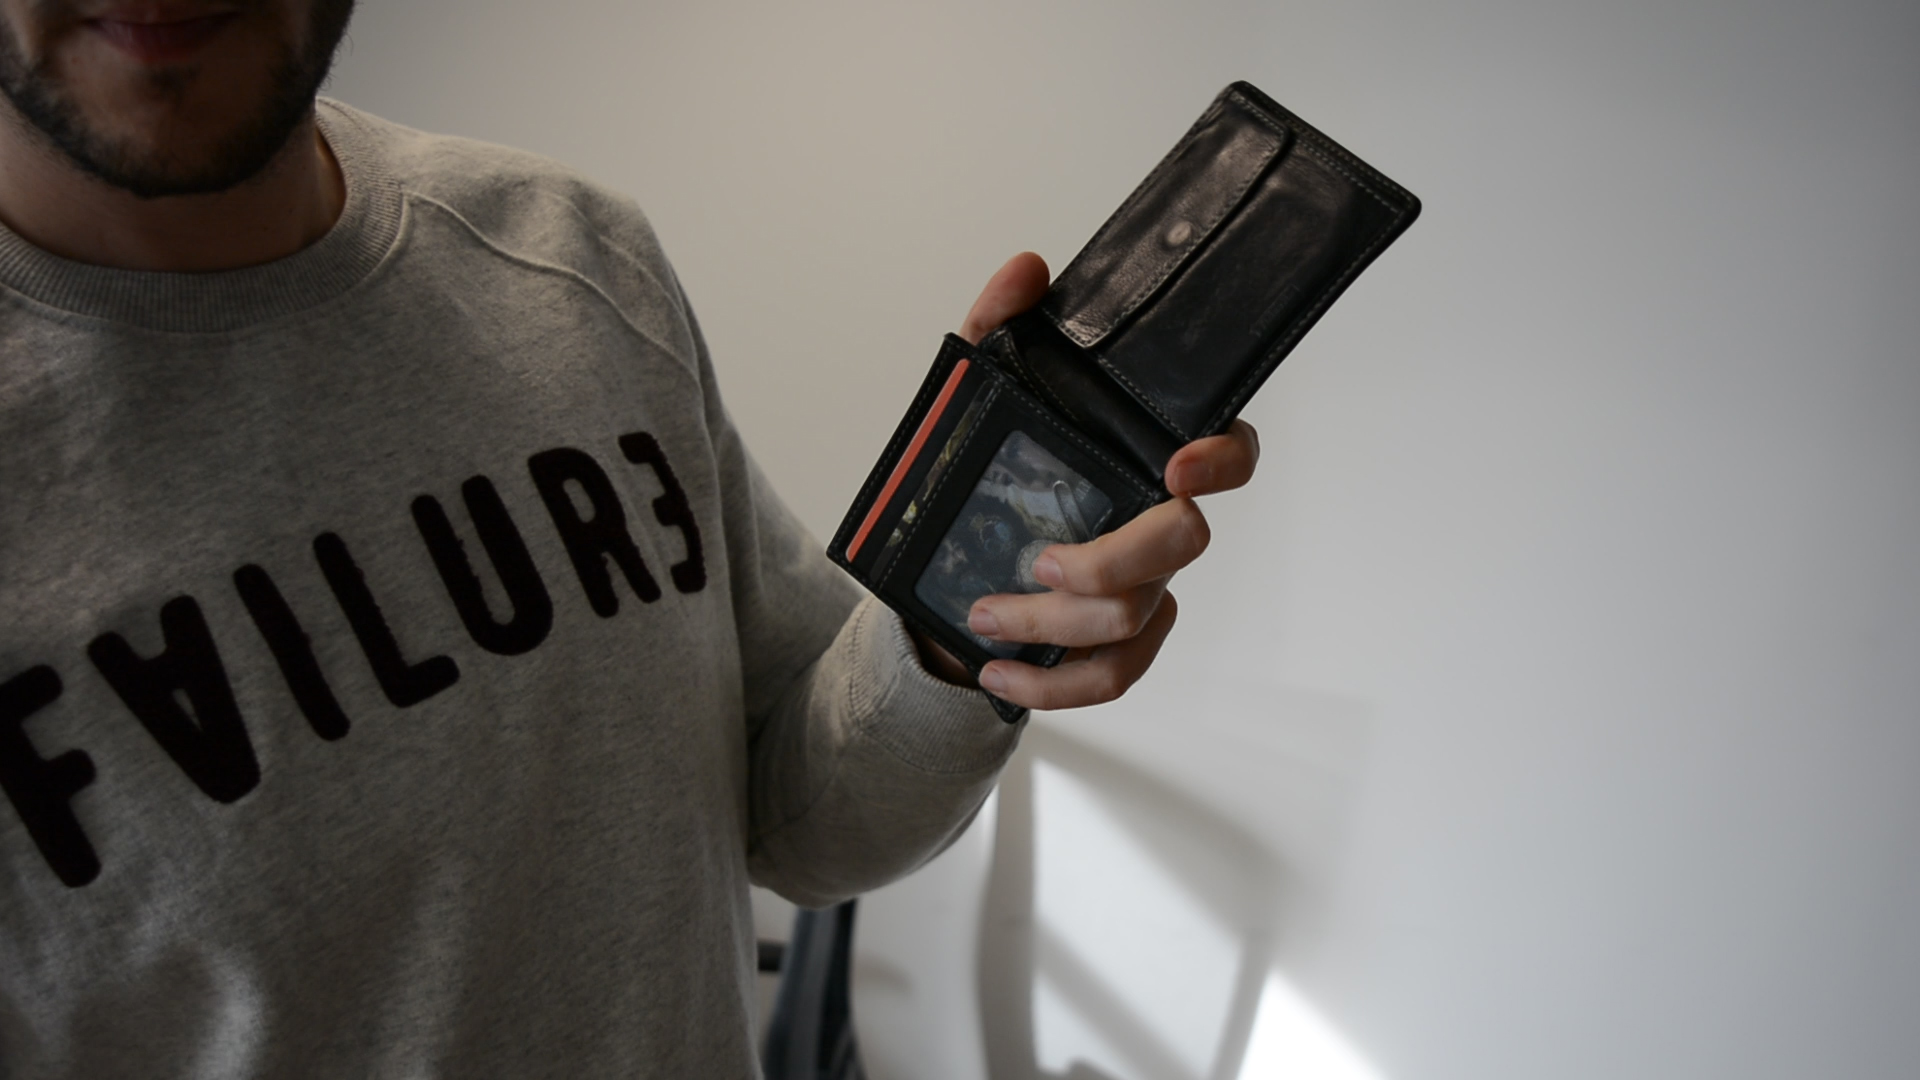monedero: (820, 76, 1427, 727)
